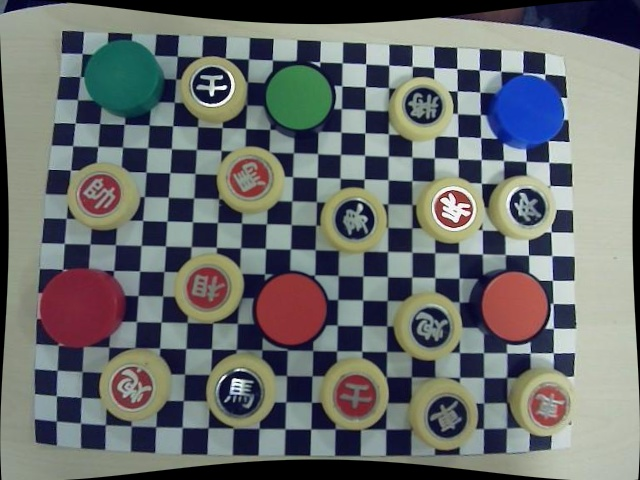Black-Cannon: (409, 301, 456, 352)
Black-Chariot: (420, 395, 472, 443)
Black-Elephant: (331, 196, 379, 243)
Black-General: (403, 86, 446, 130)
Black-Guard: (190, 65, 234, 108)
Black-Horse: (217, 369, 263, 420)
Black-Soldier: (506, 185, 552, 231)
Red-Cannon: (108, 367, 157, 414)
Red-Chariot: (528, 381, 571, 432)
Red-Elephant: (184, 265, 229, 315)
Red-General: (75, 169, 126, 220)
Red-Guard: (334, 374, 378, 420)
Red-Horse: (224, 155, 279, 204)
Red-Soldier: (429, 187, 477, 234)
